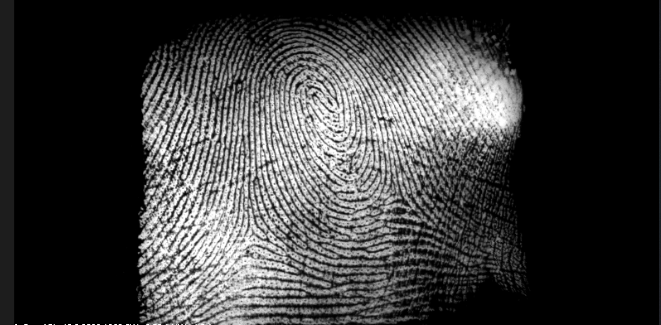deltas: (374, 175, 425, 223), (229, 211, 275, 251)
nucleo: (295, 71, 350, 123)
